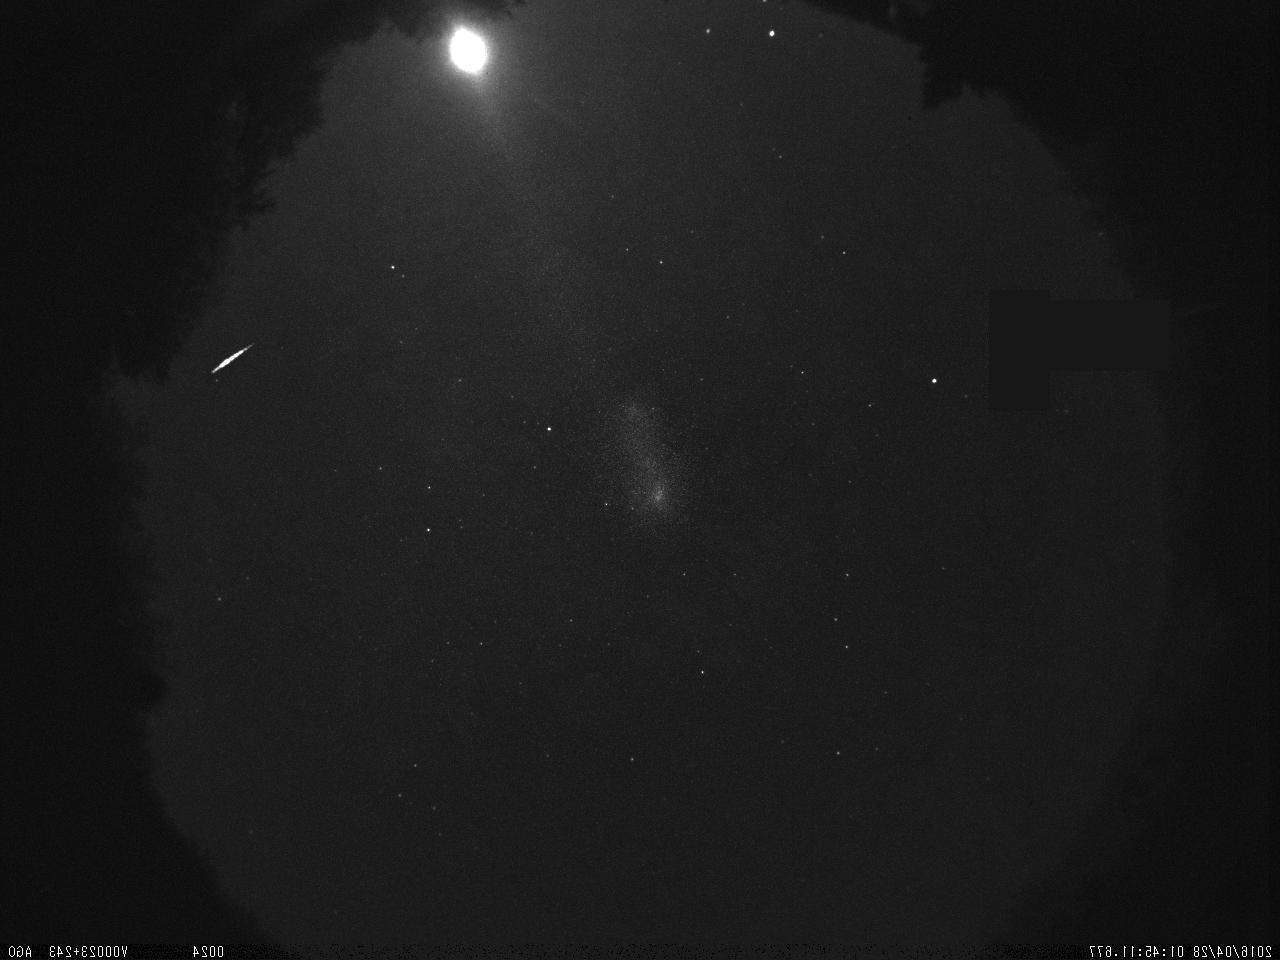meteor: (195, 333, 271, 385)
